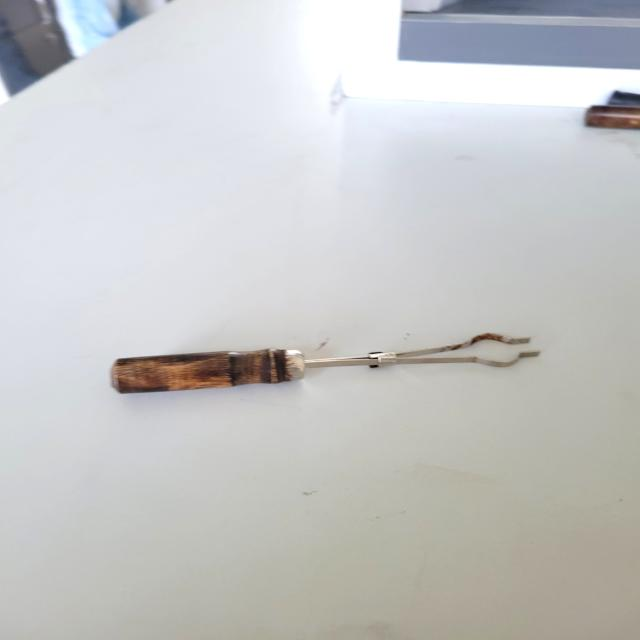TestTube_Holder: (80, 316, 558, 419)
